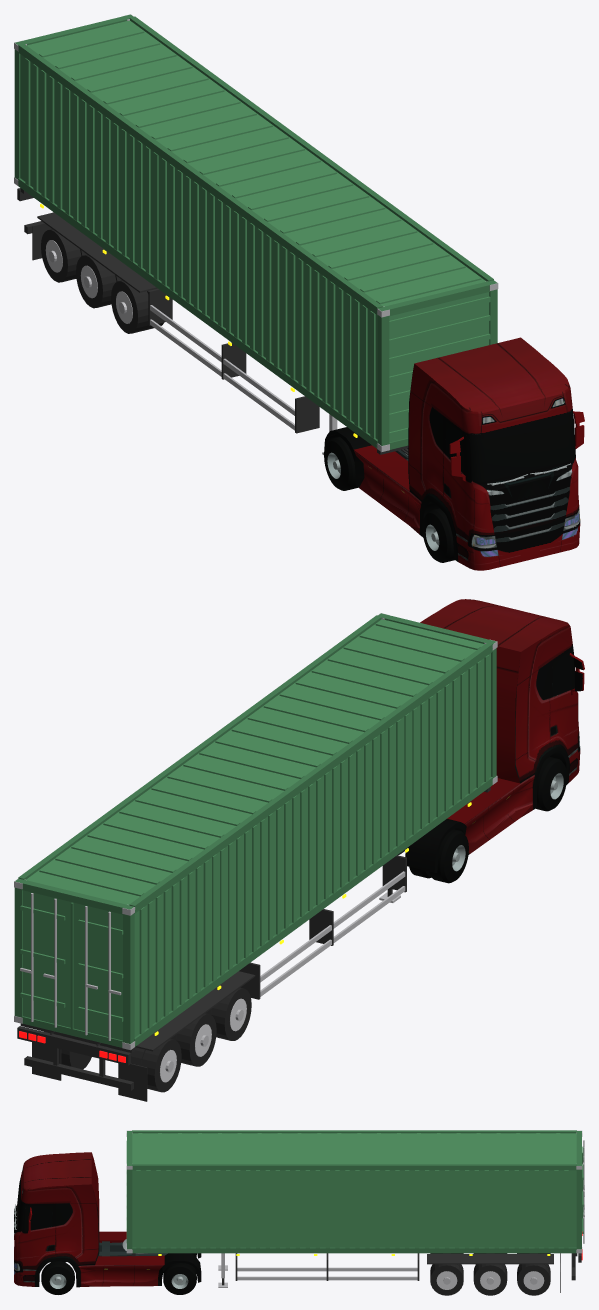
File: semi_container45_green.glb
3 views of the same model, one above another, from view 1: azimuth 30°, elevation 25°; view 2: azimuth 150°, elevation 25°; view 3: azimuth 270°, elevation 25° (orthographic). The views are drawn at different scales.
Parts seen in each view (by area): view 1: trailer_container, Cube.001, trailer_wheels, trailer_chassis, Cube.003, Cube.005; view 2: trailer_container, Cube.001, trailer_chassis, trailer_wheels, Cube.005, Cube.003; view 3: trailer_container, Cube.001, trailer_wheels, trailer_chassis, Cube.006, Cube.004.
Part boxes in pixels (x1=…): trailer_container: x1=14, y1=14, x2=498, y2=452; Cube.001: x1=324, y1=337, x2=584, y2=570; trailer_wheels: x1=37, y1=212, x2=164, y2=333; trailer_chassis: x1=17, y1=188, x2=408, y2=454; Cube.003: x1=422, y1=508, x2=454, y2=562; Cube.005: x1=324, y1=437, x2=357, y2=490; trailer_container: x1=14, y1=613, x2=497, y2=1050; Cube.001: x1=397, y1=599, x2=584, y2=872; trailer_chassis: x1=17, y1=787, x2=490, y2=1101; trailer_wheels: x1=44, y1=971, x2=255, y2=1092; Cube.005: x1=409, y1=829, x2=468, y2=883; Cube.003: x1=535, y1=756, x2=566, y2=811; trailer_container: x1=126, y1=1130, x2=584, y2=1253; Cube.001: x1=14, y1=1152, x2=201, y2=1287; trailer_wheels: x1=427, y1=1253, x2=553, y2=1295; trailer_chassis: x1=131, y1=1231, x2=582, y2=1292; Cube.006: x1=41, y1=1261, x2=74, y2=1294; Cube.004: x1=163, y1=1263, x2=196, y2=1294.
Size of the model in its own units: 2.9 by 4.35 by 17.21.
9 materials, 1 textured.
